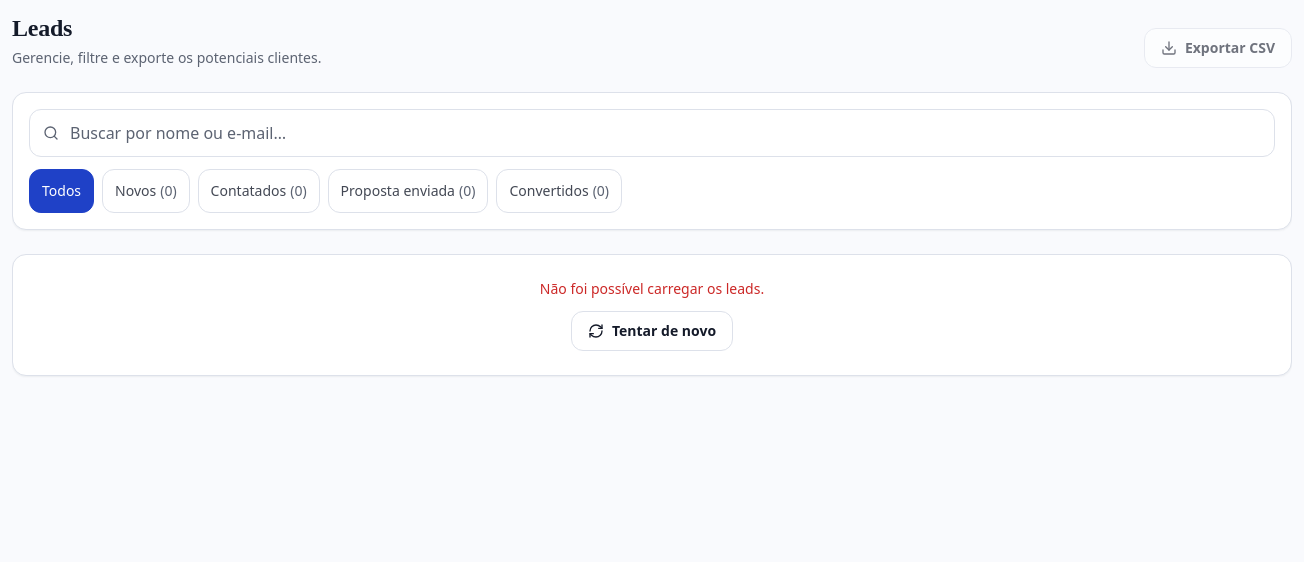
Test case: AdminLeadsPage (DI-073 / DI-088 / DI-080) › erro de carga oferece "Tentar de novo", que refaz a consulta
Expected: the message reads "Não foi possível carregar os leads.", [540,279,764,298]
Step 1. Click the button "Tentar de novo" → (652, 331), box [571,311,733,351]
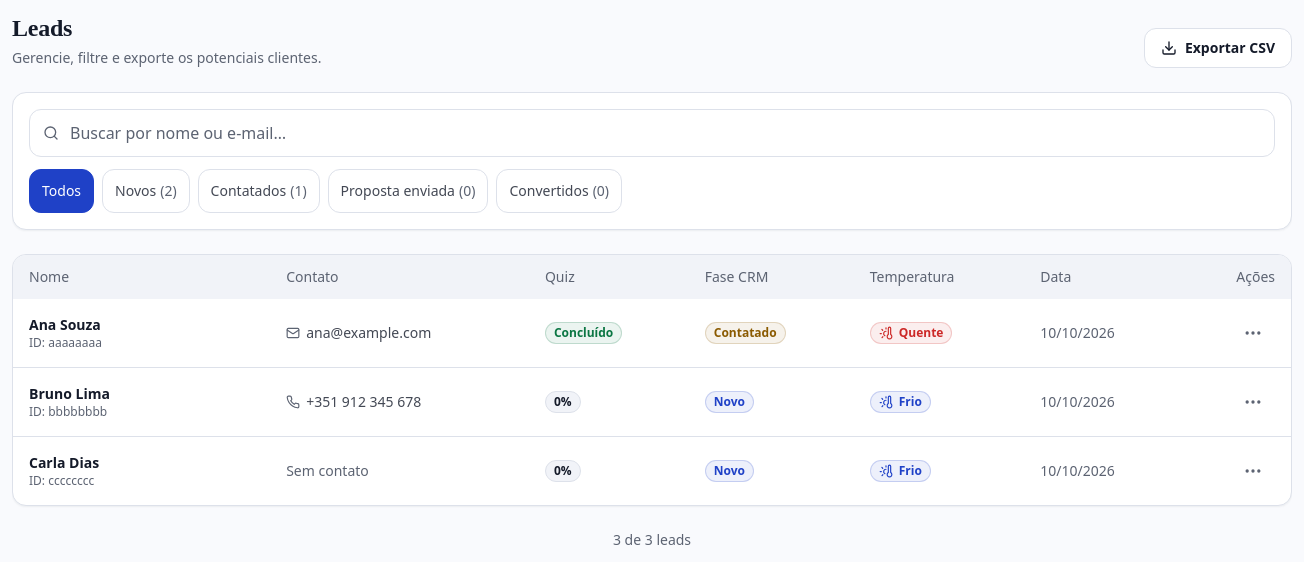
Expected: the message "Não foi possível carregar os leads." is gone
